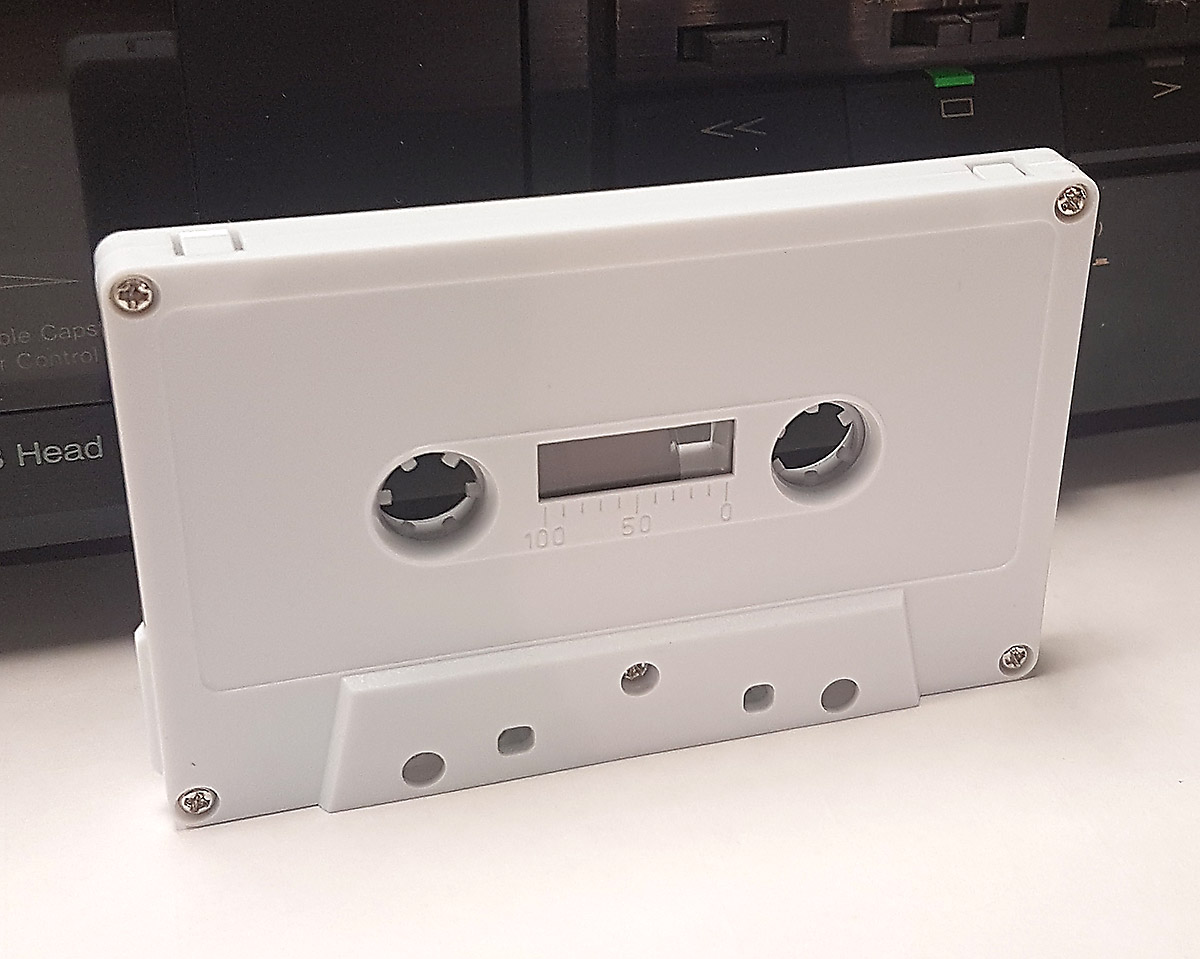Nonrec_Other: (72, 158, 1114, 827)
